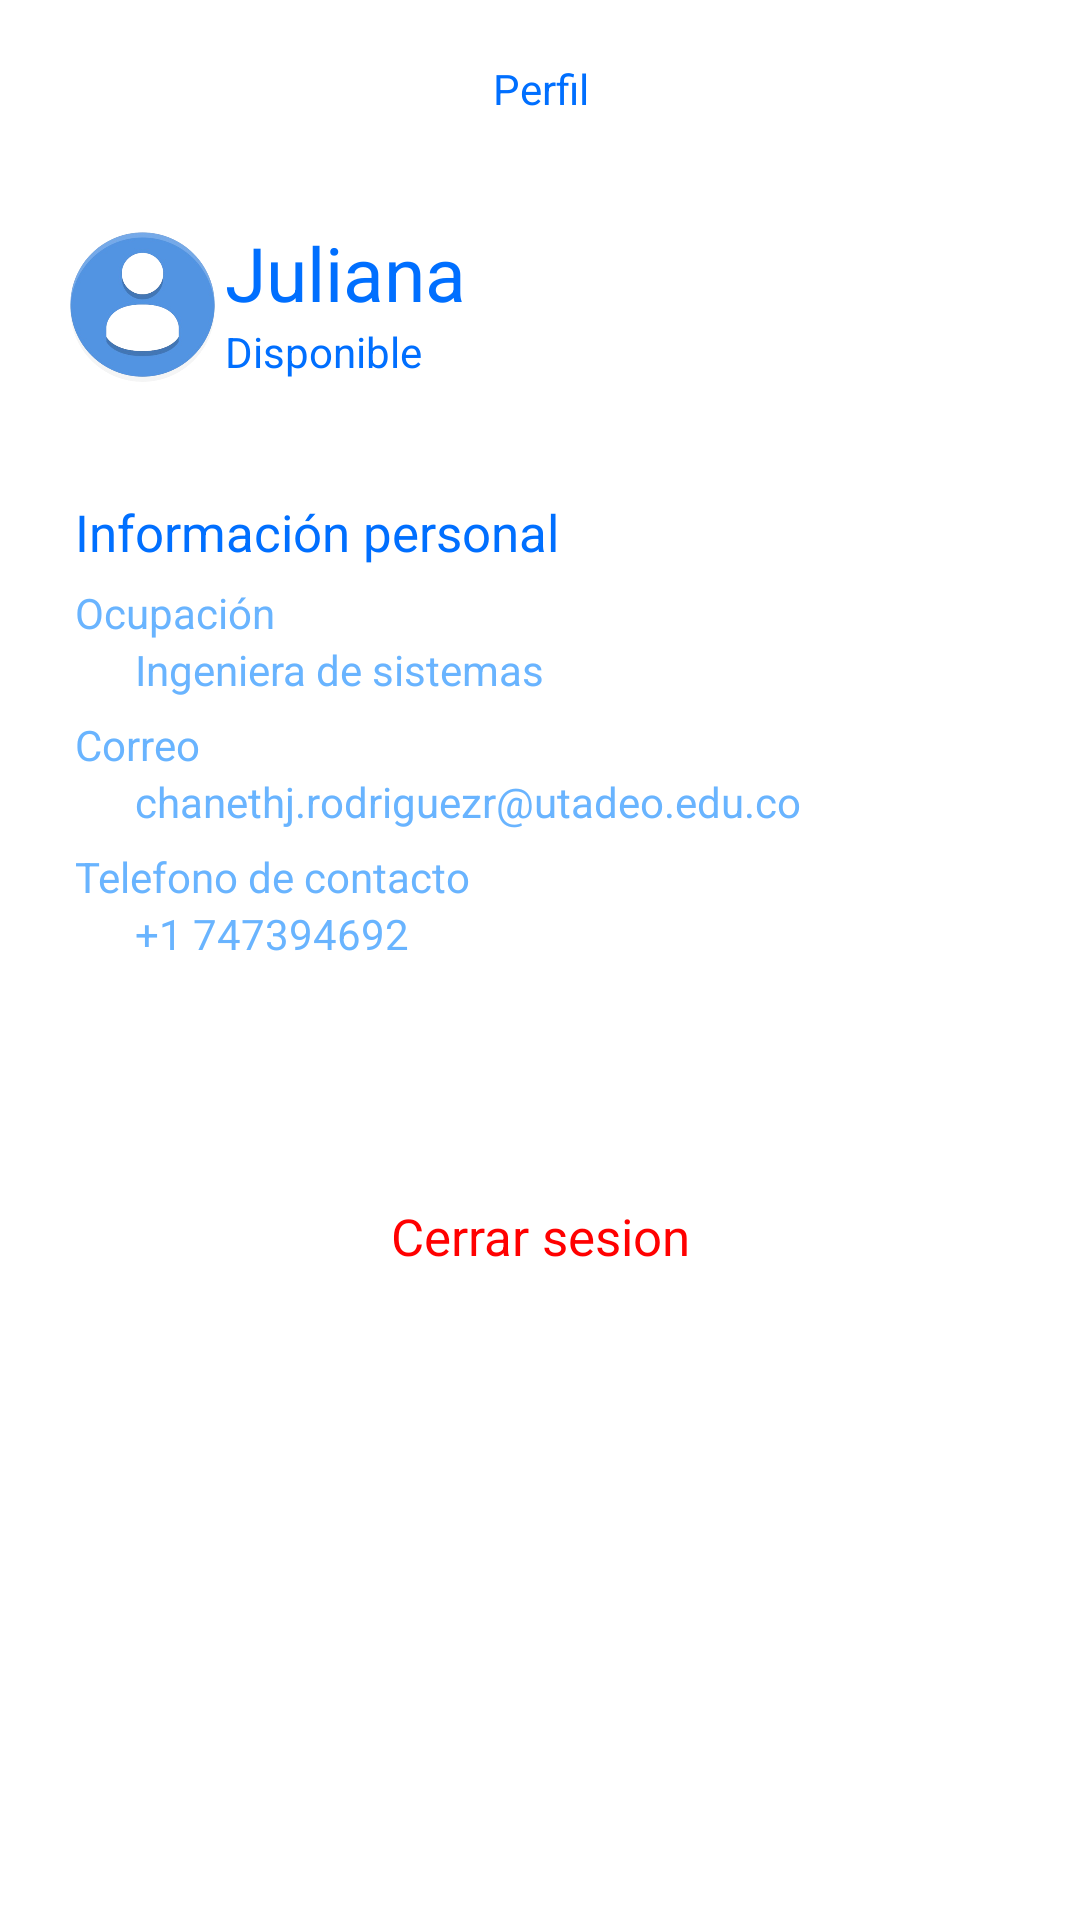

Icons on this 1080*1920 Android screen, each with the point to tap as point (x, y):
userdafault: point (142, 304)
